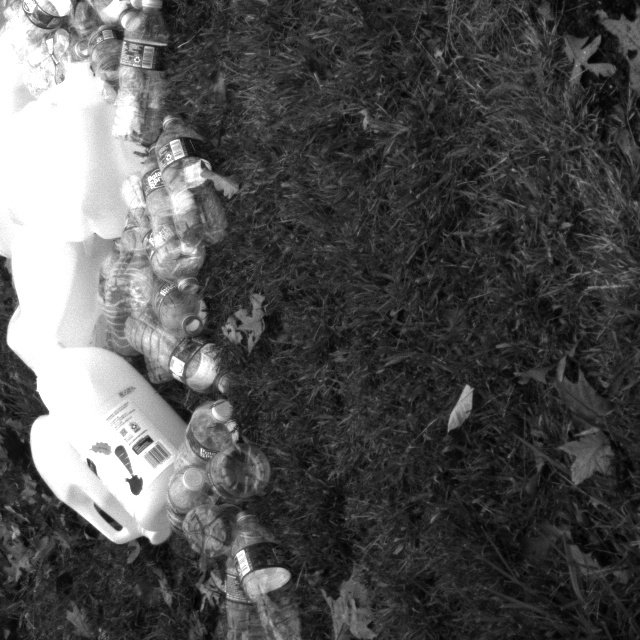bottle: (227, 506, 310, 640), (164, 394, 243, 531), (150, 113, 227, 248), (120, 304, 235, 392), (110, 0, 174, 142), (139, 165, 206, 294), (220, 530, 274, 640), (144, 272, 211, 338), (105, 253, 146, 357)
can: (28, 343, 206, 537), (25, 405, 171, 550), (18, 59, 132, 239), (0, 234, 111, 377)
